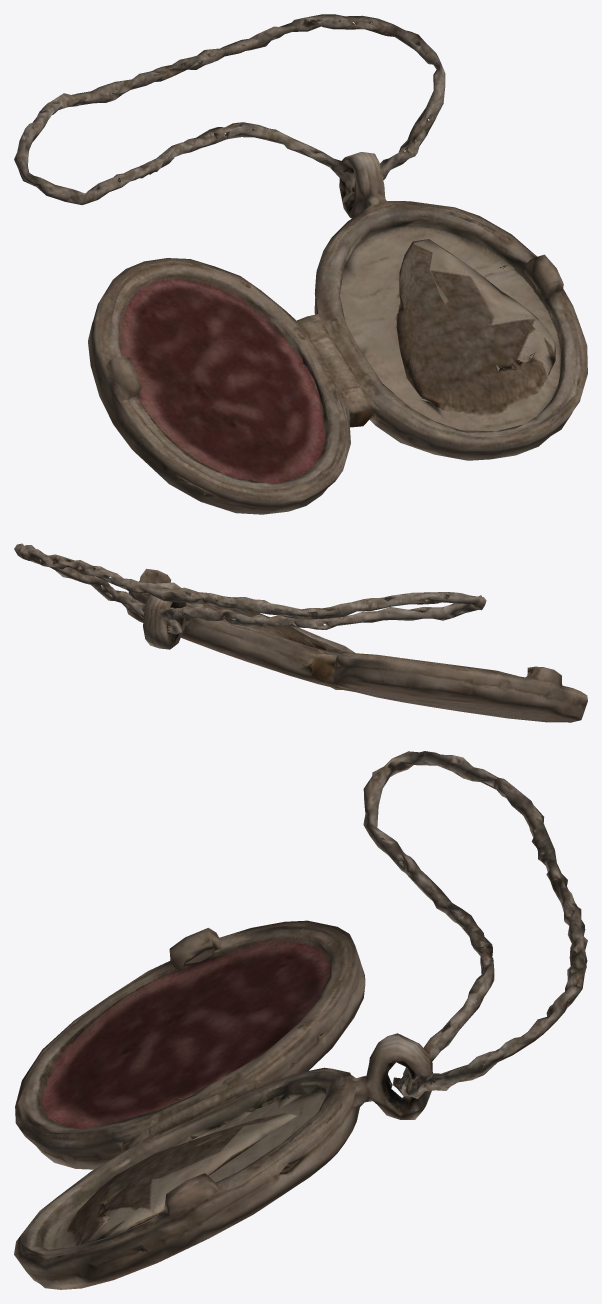
The model's file is locket.glb.
3 views of the same model, one above another, from view 1: azimuth 30°, elevation 25°; view 2: azimuth 150°, elevation 25°; view 3: azimuth 270°, elevation 25° (orthographic). The views are drawn at different scales.
Visible parts, largest first — view 1: Mesh_0; view 2: Mesh_0; view 3: Mesh_0.
Boxes of the visible parts, <box> form: Mesh_0: <box>14,14,587,514</box>; Mesh_0: <box>14,543,587,722</box>; Mesh_0: <box>14,751,587,1289</box>.
Size of the model in its own units: 0.2 by 0.1169 by 0.1808.
Materials: 1 (1 with a texture image).
